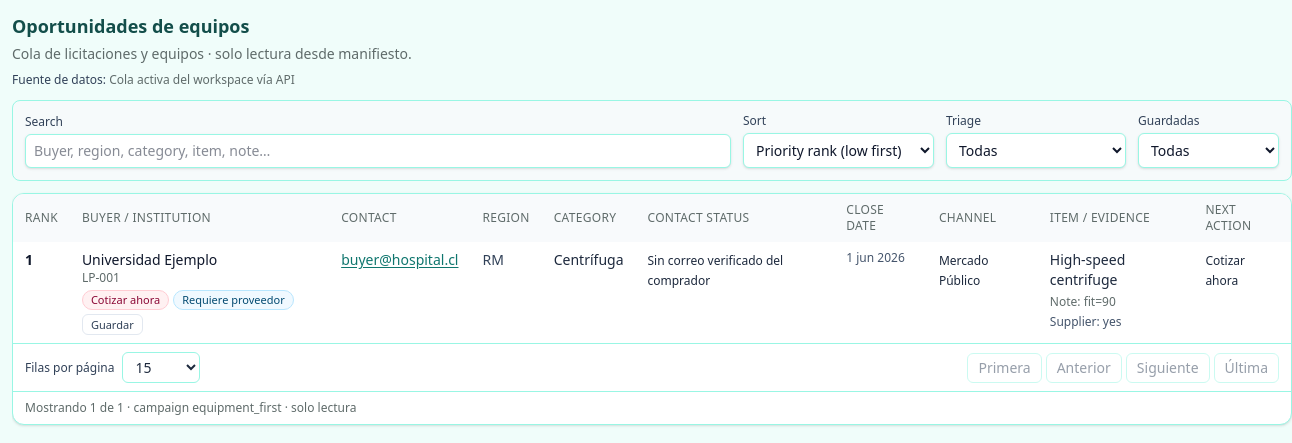
Test: EquipmentOpportunitiesTable › shows triage-specific empty copy when triage filter has no matches
Select "Sin contacto" in the dropdown named "Filter equipment opportunities by triage" at (1036, 150), box [946, 133, 1126, 168]
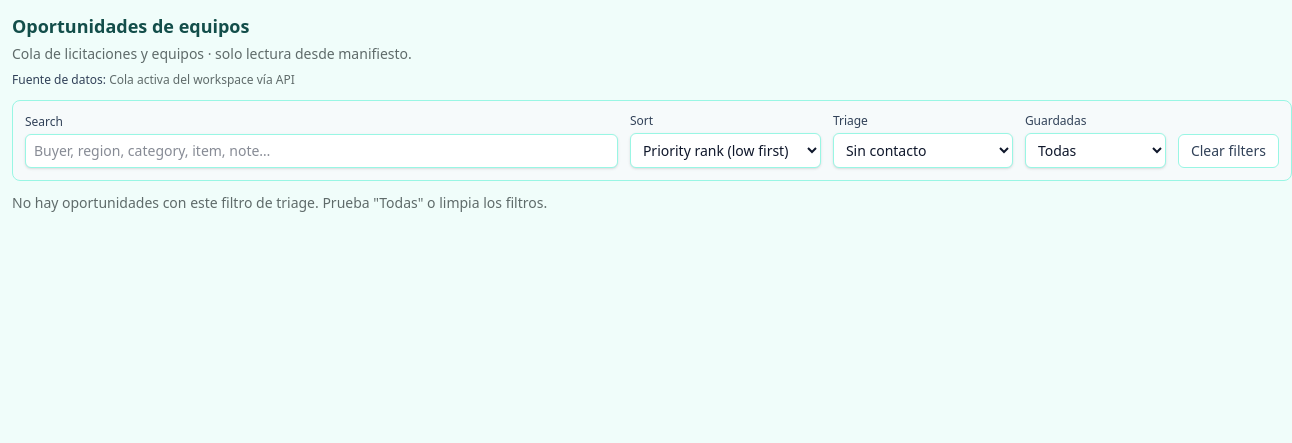
Result: the text "No hay oportunidades con este filtro de triage" is shown at [12, 193, 547, 212]
Result: the button "Universidad Ejemplo" is gone
